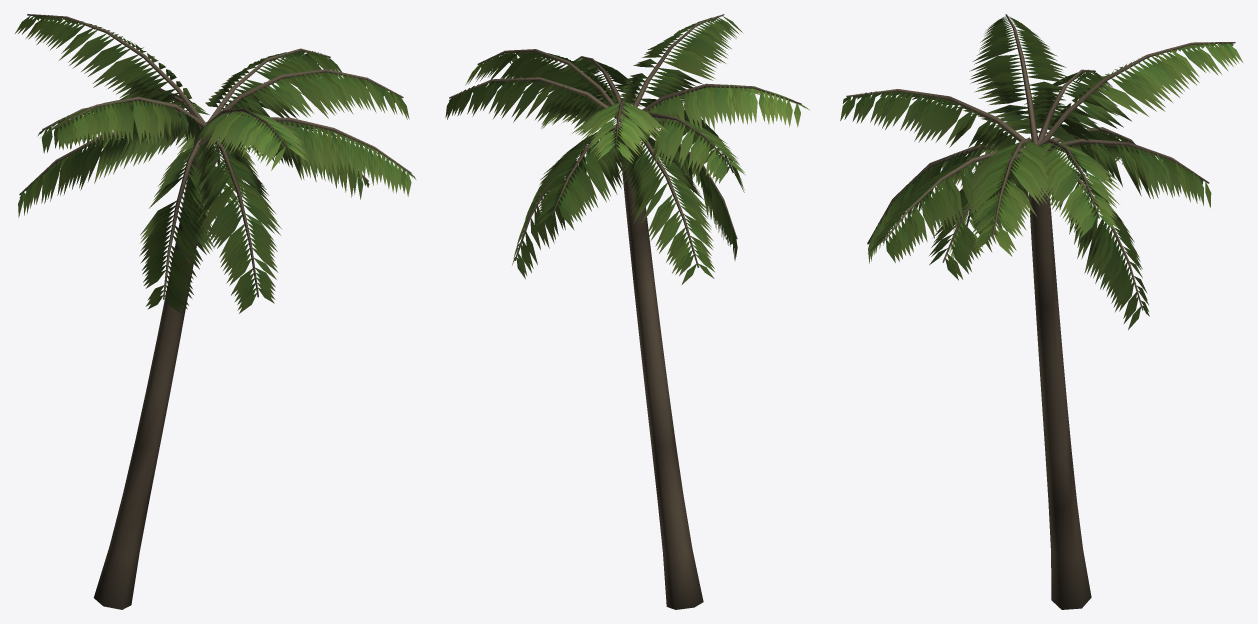
The model's file is palm-a.lod1.glb.
3 renders of one model, left to right at view 1: azimuth 30°, elevation 25°; view 2: azimuth 150°, elevation 25°; view 3: azimuth 270°, elevation 25°, orthographic. The views are drawn at different scales.
Size of the model in its own units: 5.89 by 8.7 by 5.62.
